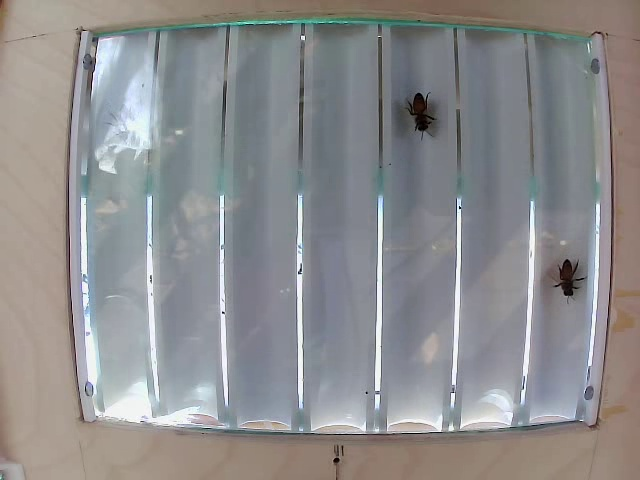bee: (398, 80, 441, 141), (553, 250, 585, 299)
